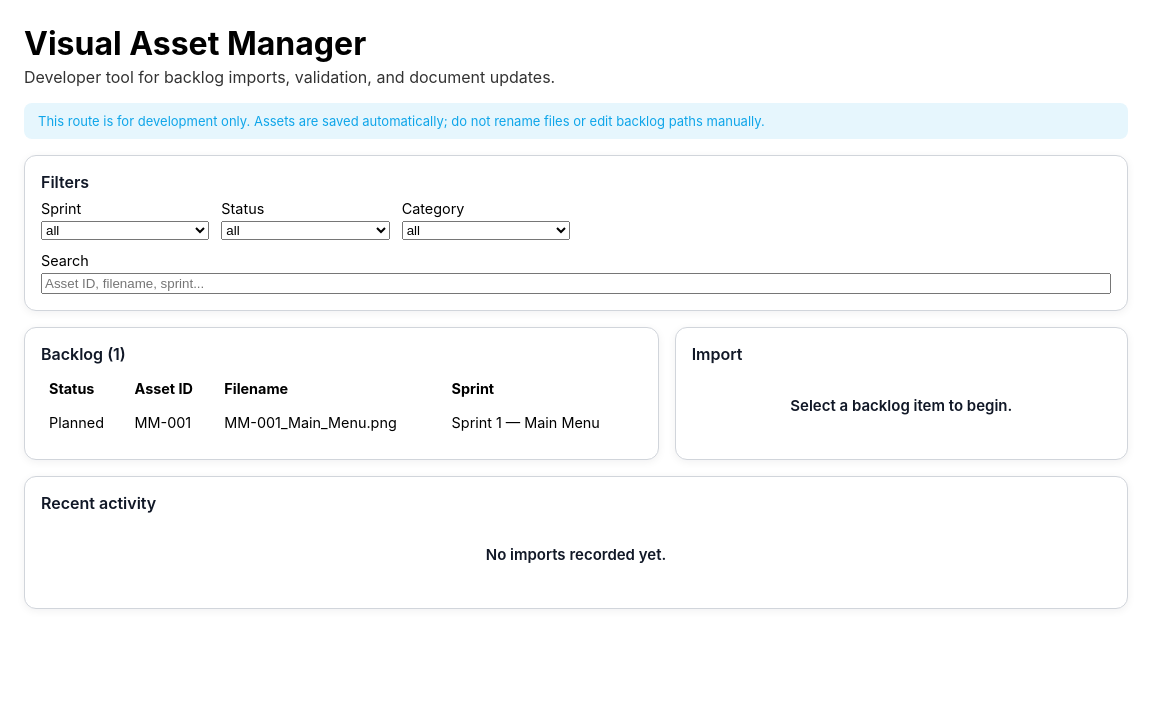
it: VisualAssetsScreen › selects an asset from the backlog table
What coordinates should you click on to do the following:
click the text "MM-001_Main_Menu.png"
I would click on:
 (330, 422)
Its box is [216,406,444,440].
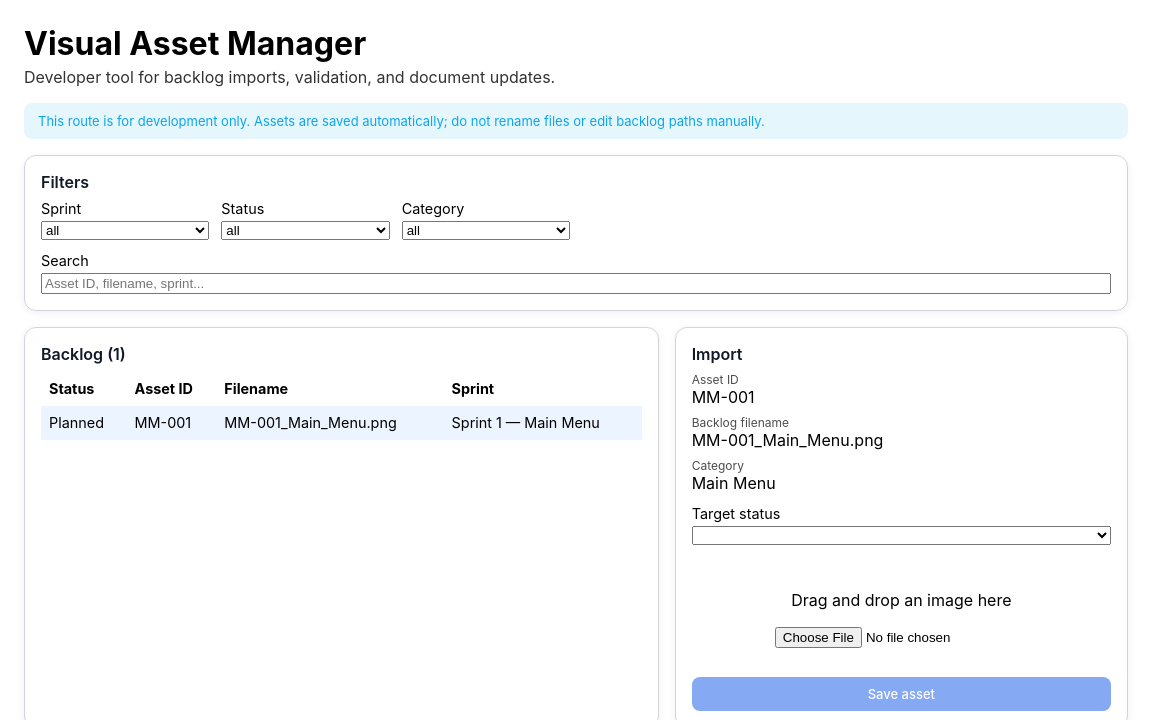
Expected: the text "Backlog filename" is shown, [692,415,789,430]
